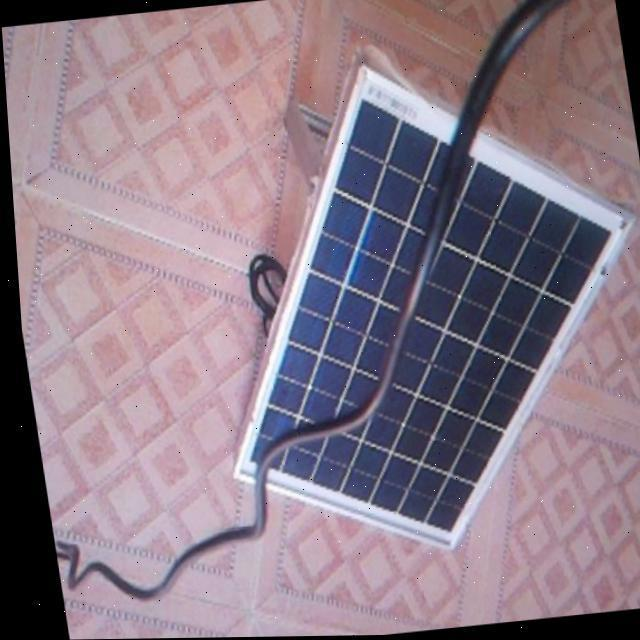Normal Solar Panel: (173, 41, 640, 570)
